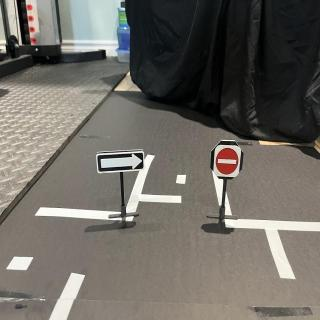sign_noentry: (214, 145, 242, 181)
sign_oneway_right: (96, 151, 146, 175)
